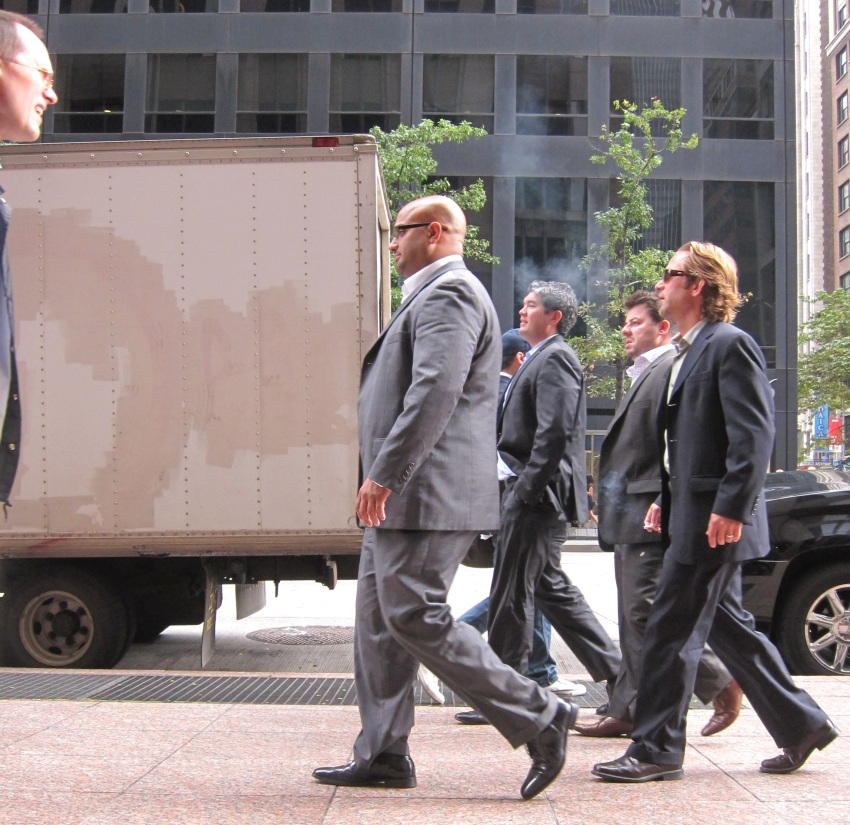Person: (309, 192, 582, 806), (590, 239, 843, 785), (571, 288, 753, 737), (453, 277, 622, 735)
